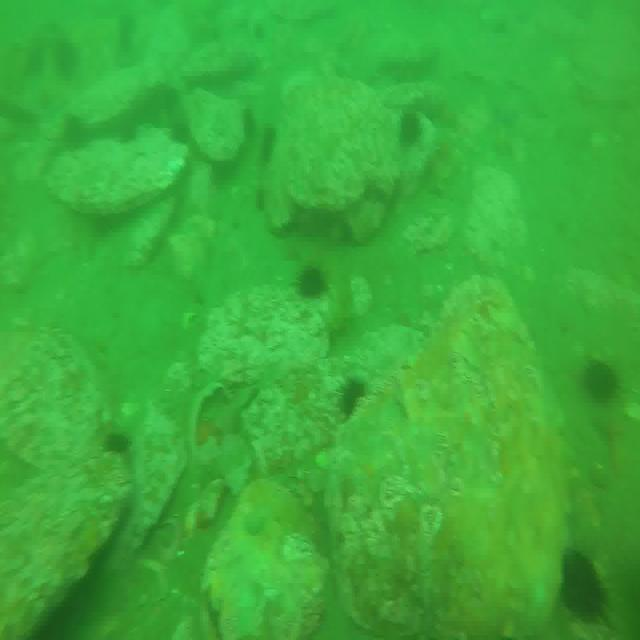echinus: (559, 546, 607, 629), (582, 356, 618, 404), (296, 256, 329, 300), (337, 376, 365, 420), (63, 107, 89, 150), (120, 106, 146, 145), (57, 37, 79, 82), (260, 121, 278, 162), (400, 108, 422, 141)
